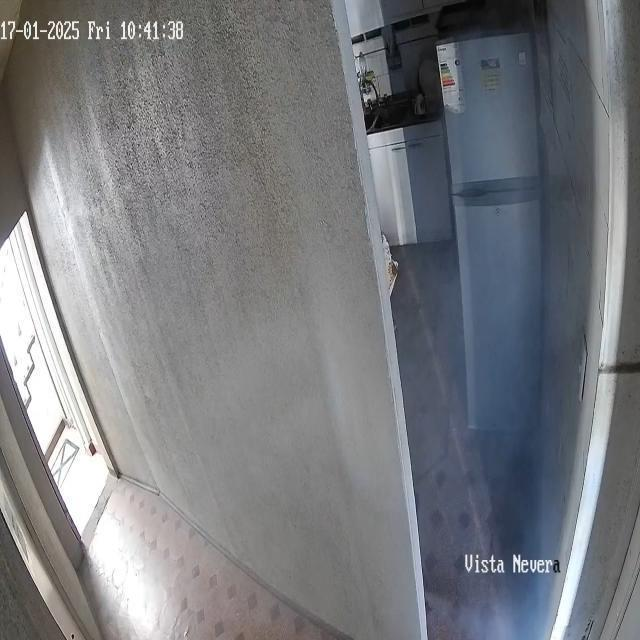fire: (403, 212, 572, 640)
